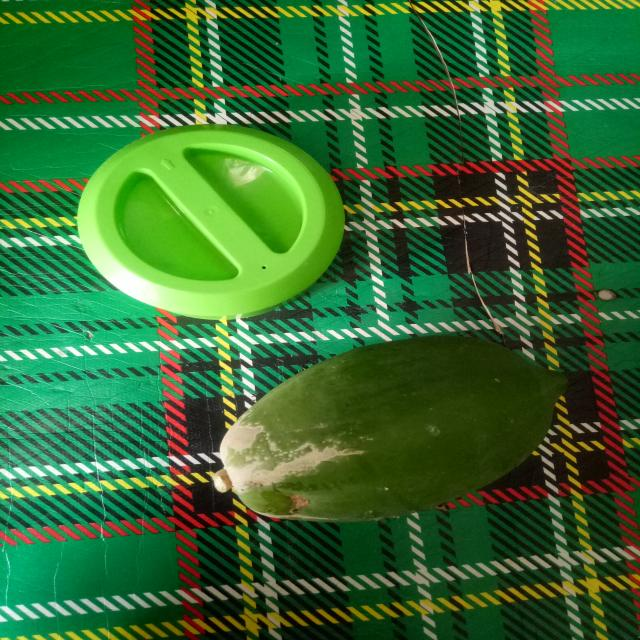Pepaya unrippen: (214, 330, 571, 520)
